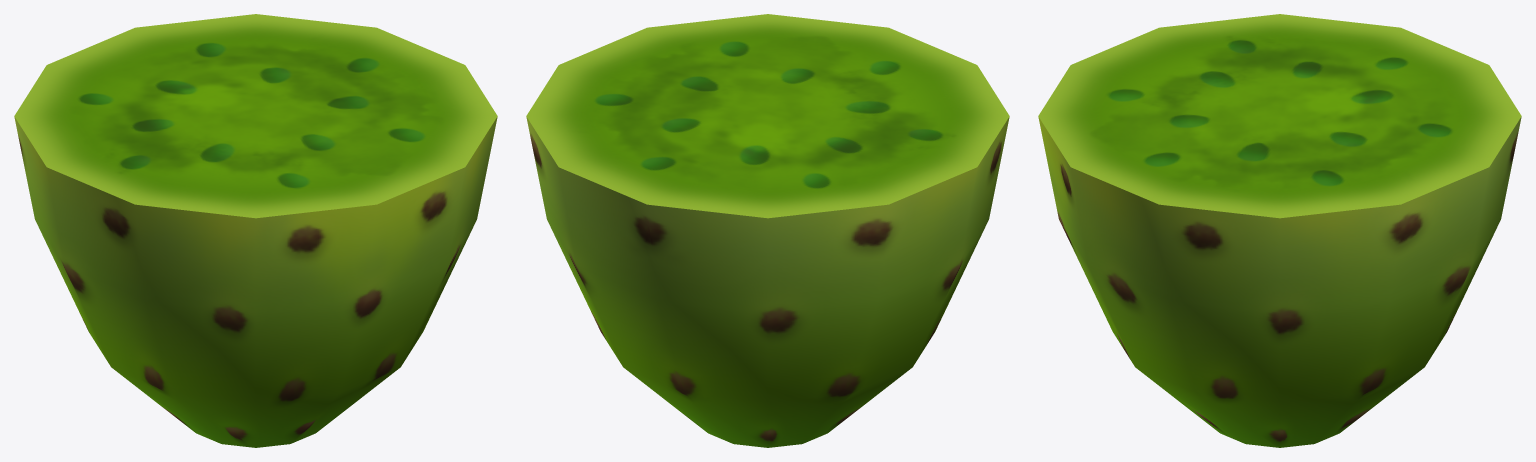
Rendered from CutPricklyPear.fbx.
3 views of the same model, side by side, from view 1: azimuth 30°, elevation 25°; view 2: azimuth 150°, elevation 25°; view 3: azimuth 270°, elevation 25° (orthographic).
Parts seen in each view (by area): view 1: PricklyPear_Green_Half; view 2: PricklyPear_Green_Half; view 3: PricklyPear_Green_Half.
Part boxes in pixels (x1,y1,x2,y2): PricklyPear_Green_Half: [14, 14, 497, 447]; PricklyPear_Green_Half: [526, 14, 1009, 447]; PricklyPear_Green_Half: [1038, 14, 1521, 447].
Bounding box in the file's own units: 26.57 × 19.9 × 26.57.
